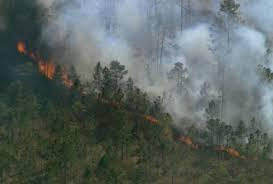fire: (16, 42, 73, 88)
yanwu: (45, 0, 271, 142)
